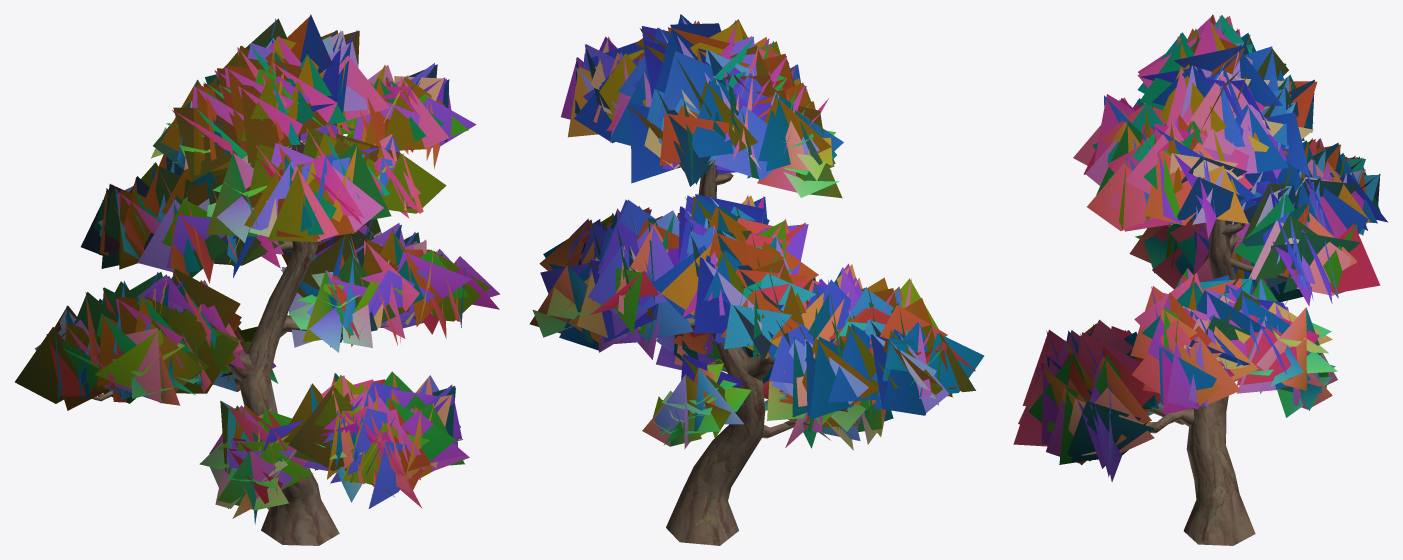
File: Homeworld_Exterior_Dq_Plant_Greenplant_10_Lod0.fbx
3 views of the same model, side by side, from view 1: azimuth 30°, elevation 25°; view 2: azimuth 150°, elevation 25°; view 3: azimuth 270°, elevation 25° (orthographic). The views are drawn at different scales.
Visible parts, largest first — view 1: Area_Dq_Tree_Common_Pt_04_Leaf_Lod0, Area_Dq_Tree_Common_Pt_04_Bark_Lod0; view 2: Area_Dq_Tree_Common_Pt_04_Leaf_Lod0, Area_Dq_Tree_Common_Pt_04_Bark_Lod0; view 3: Area_Dq_Tree_Common_Pt_04_Leaf_Lod0, Area_Dq_Tree_Common_Pt_04_Bark_Lod0.
Part boxes in pixels (bbox=[...]): Area_Dq_Tree_Common_Pt_04_Leaf_Lod0: bbox=[15, 14, 499, 524]; Area_Dq_Tree_Common_Pt_04_Bark_Lod0: bbox=[92, 123, 462, 545]; Area_Dq_Tree_Common_Pt_04_Leaf_Lod0: bbox=[529, 14, 984, 450]; Area_Dq_Tree_Common_Pt_04_Bark_Lod0: bbox=[573, 159, 957, 545]; Area_Dq_Tree_Common_Pt_04_Leaf_Lod0: bbox=[1013, 14, 1388, 481]; Area_Dq_Tree_Common_Pt_04_Bark_Lod0: bbox=[1081, 112, 1309, 545].
Size of the model in its own units: 4.4 by 4.74 by 3.23.
